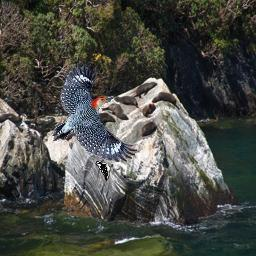Woodpecker: (51, 62, 137, 163), (95, 161, 113, 182)
